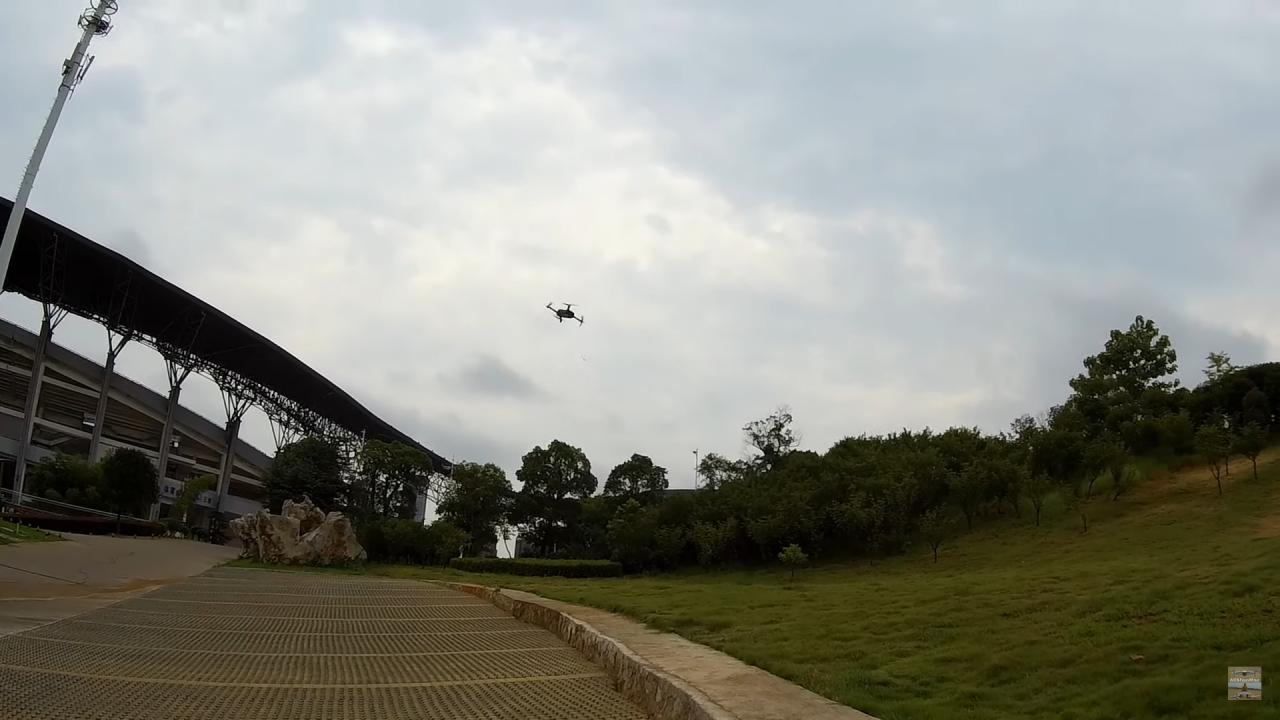Drone: (534, 293, 597, 335)
